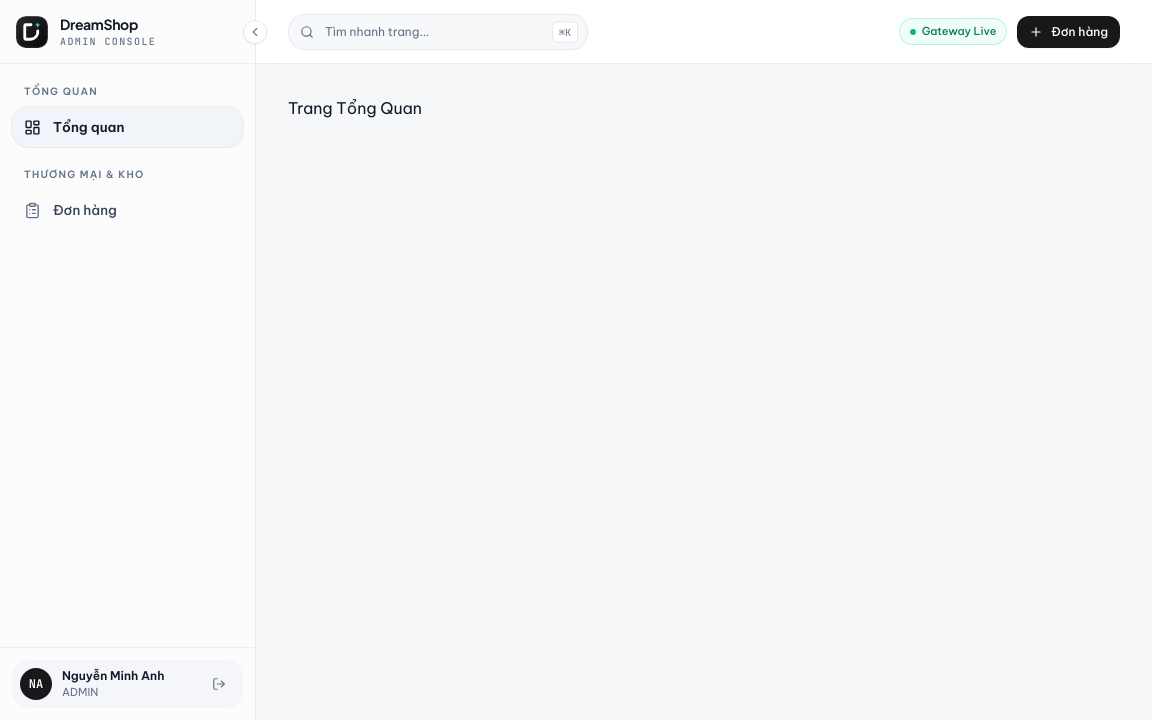
AdminShell › gates navigation items by permission and navigates via Quick Jump search
Expected: the link "Đơn hàng" below "Thương mại & Kho" is shown, [24,201,117,219]
Type "đơn" into the search field with placeholder "Tìm nhanh trang..." at coordinates (438, 32), box [288,14,588,50]
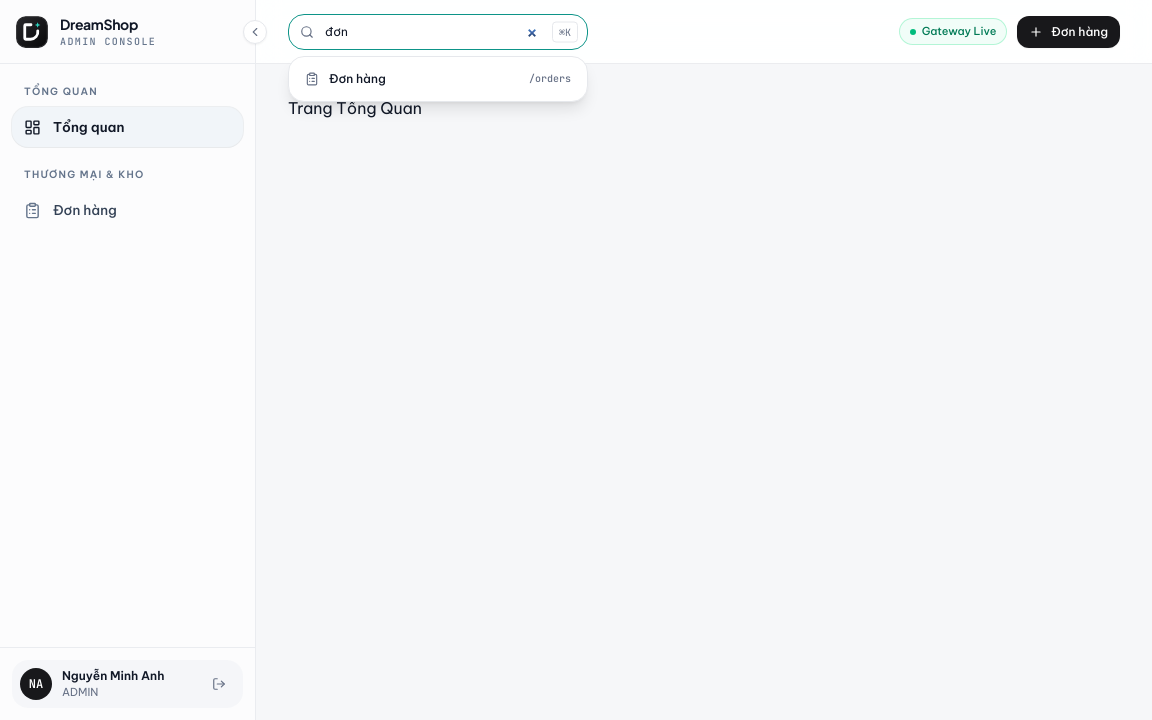
Click the button "Đơn hàng /orders" at coordinates (357, 78), box [295,62,581,94]
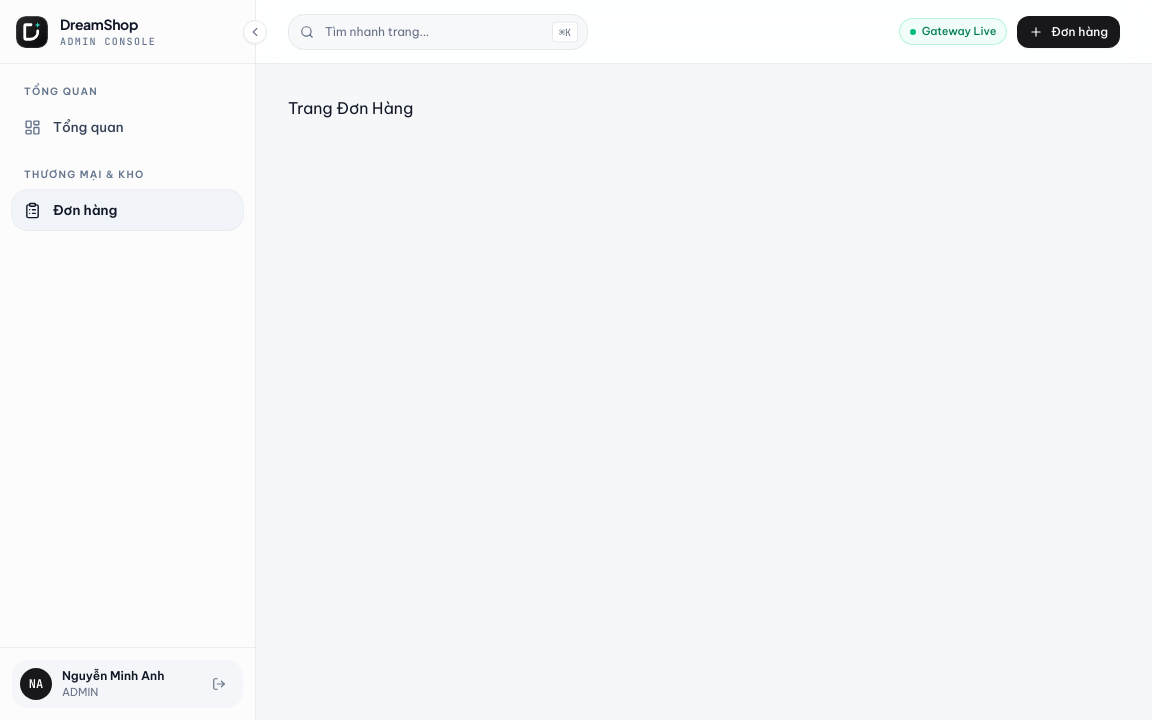
Now the text "Trang Đơn Hàng" is shown, box [288,98,413,118]
